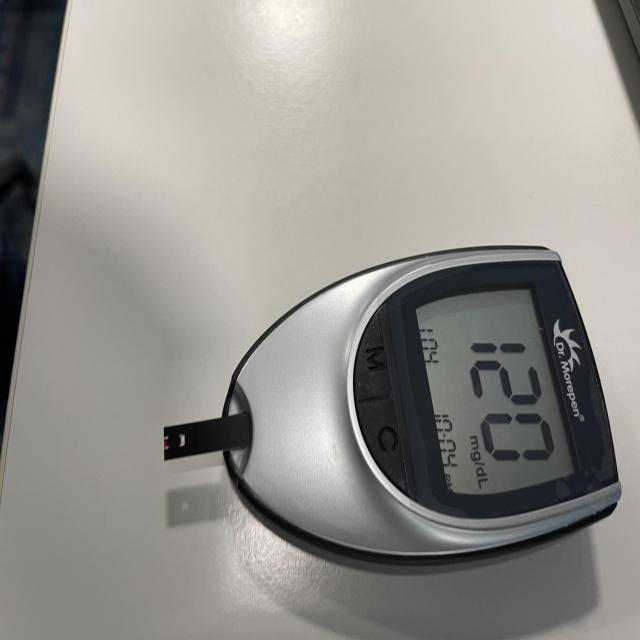gluco: (165, 246, 622, 578)
